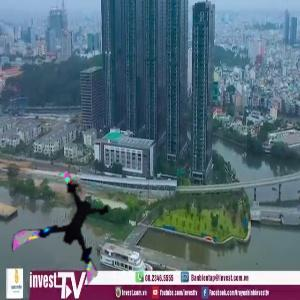drone: (21, 183, 125, 287)
